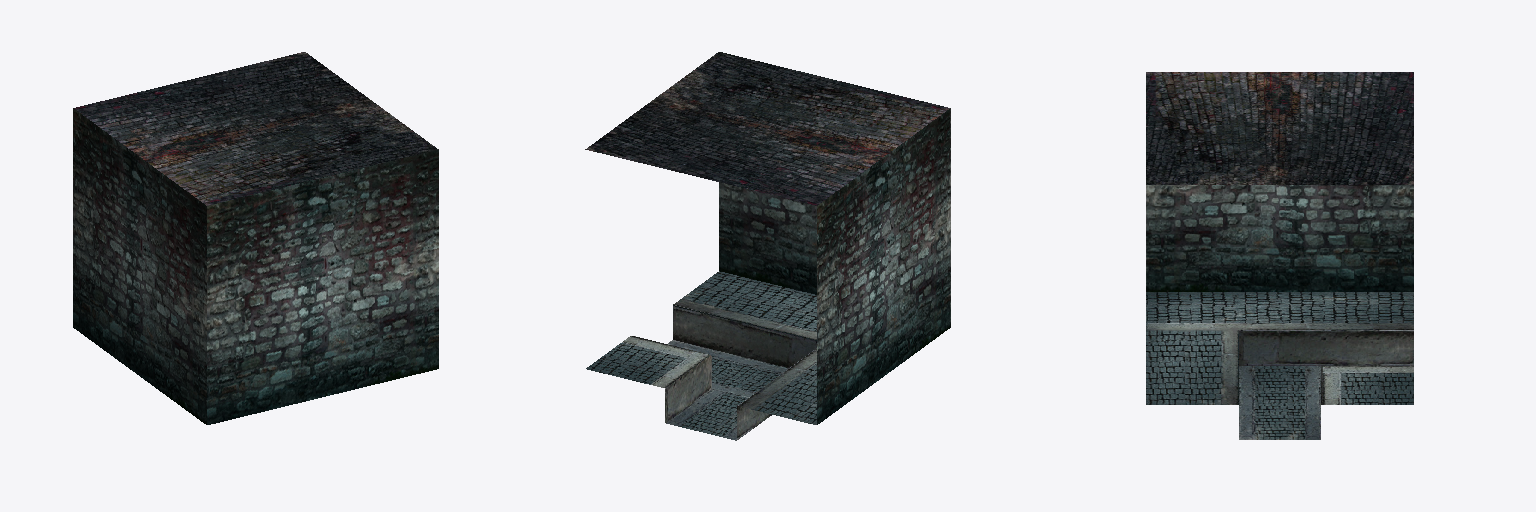
3 views of the same model, side by side, from view 1: azimuth 30°, elevation 25°; view 2: azimuth 150°, elevation 25°; view 3: azimuth 270°, elevation 25° (orthographic).
Parts seen in each view (by area): view 1: polySurface12; view 2: polySurface12; view 3: polySurface12.
Part boxes in pixels (x1,y1,x2,y2): polySurface12: (73, 52, 438, 424); polySurface12: (585, 52, 950, 440); polySurface12: (1146, 72, 1413, 439).
Size of the model in its own units: 305 by 320 by 305.
1 materials, 1 textured.